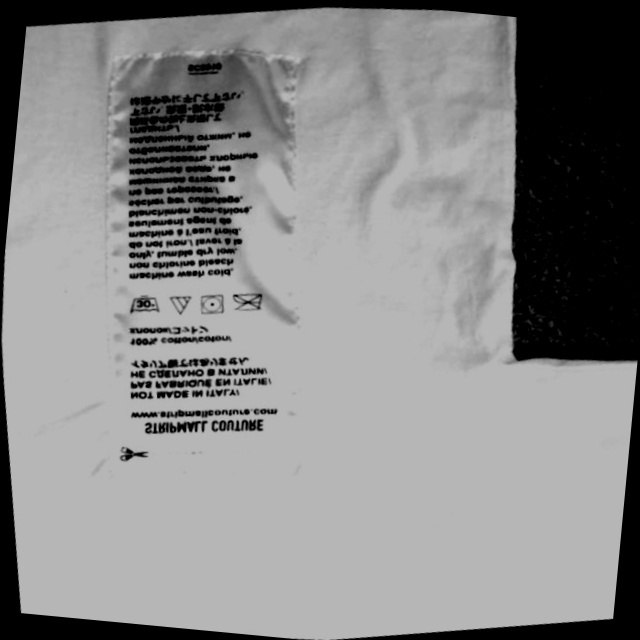30C: (122, 287, 166, 321)
DN_iron: (228, 284, 273, 323)
non_chlorine_bleach: (163, 289, 197, 320)
tumble_dry_low: (190, 287, 231, 320)
